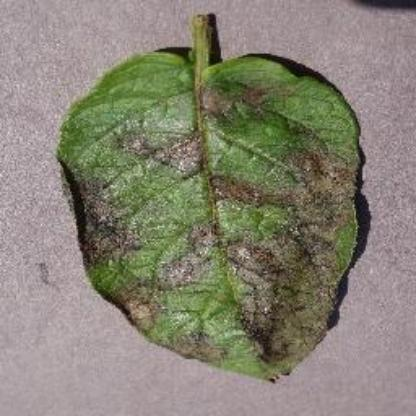Late-Blight: (58, 35, 388, 381)
